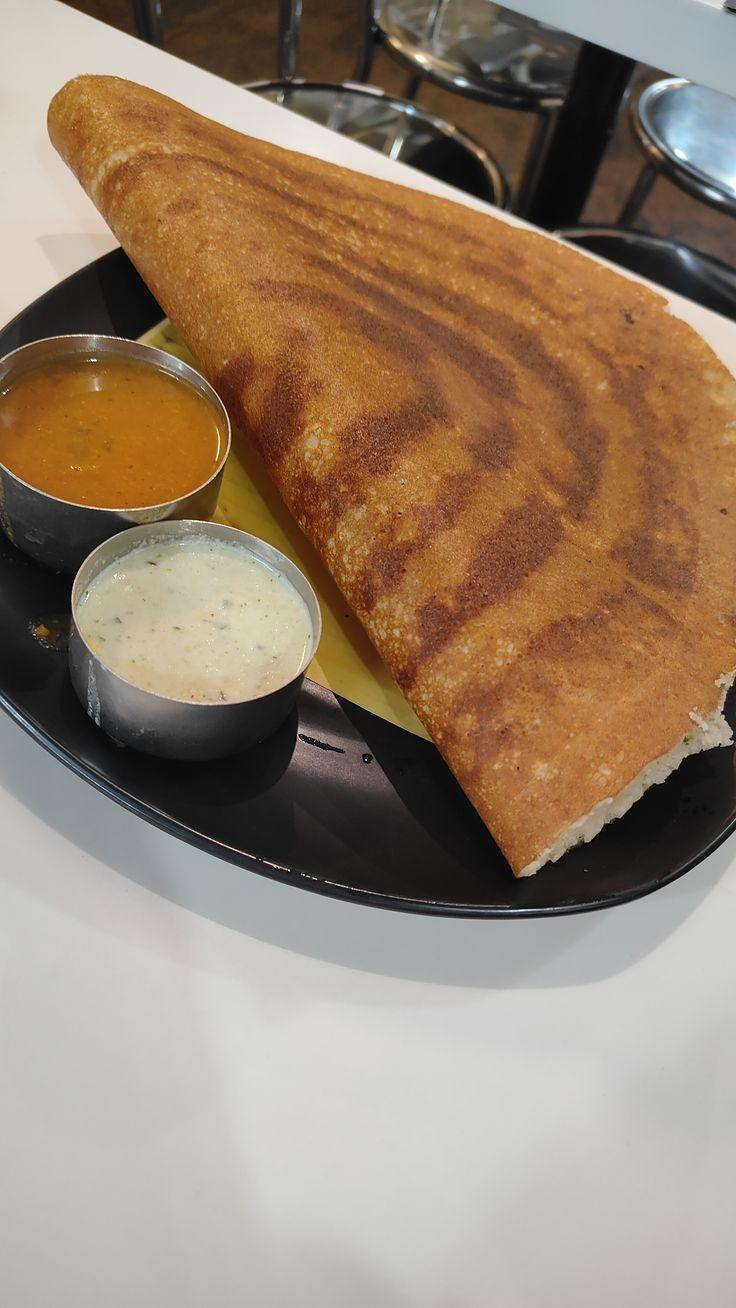dosa: (244, 76, 736, 873)
